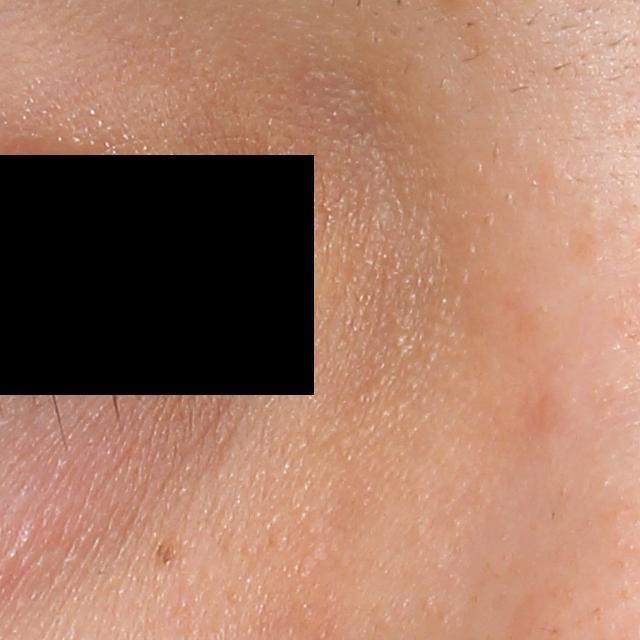nevus: (155, 539, 176, 567)
